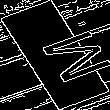M_SW: (12, 23, 98, 87)
